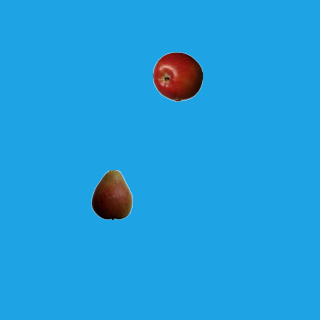Apple Braeburn: (152, 51, 202, 101)
Pear Forelle: (86, 169, 136, 219)
